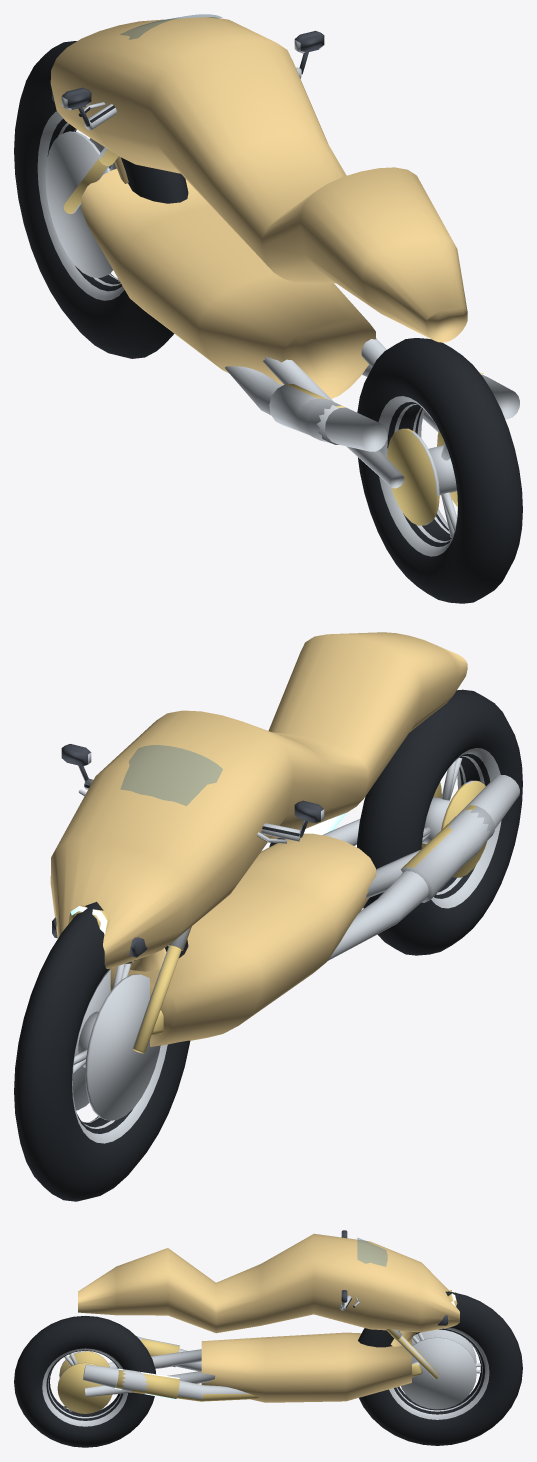
The model's file is ronin.glb.
The picture shows the model from 3 angles, top to bottom: view 1: azimuth 30°, elevation 25°; view 2: azimuth 150°, elevation 25°; view 3: azimuth 270°, elevation 25°; orthographic projection. The views are drawn at different scales.
Visible parts, largest first — view 1: chassis, rear-wheel, front-wheel, cockpit; view 2: chassis, front-wheel, rear-wheel, cockpit; view 3: chassis, front-wheel, rear-wheel, cockpit.
Boxes of the visible parts, x1=… form: chassis: x1=50, y1=17, x2=519, y2=488; rear-wheel: x1=357, y1=338, x2=522, y2=603; front-wheel: x1=14, y1=41, x2=188, y2=358; cockpit: x1=61, y1=14, x2=324, y2=130; chassis: x1=50, y1=632, x2=519, y2=1053; front-wheel: x1=14, y1=901, x2=190, y2=1201; rear-wheel: x1=357, y1=689, x2=522, y2=955; cockpit: x1=61, y1=744, x2=324, y2=843; chassis: x1=78, y1=1233, x2=459, y2=1402; front-wheel: x1=358, y1=1291, x2=522, y2=1445; rear-wheel: x1=14, y1=1316, x2=155, y2=1447; cockpit: x1=340, y1=1230, x2=387, y2=1310.
Size of the model in its own units: 0.98 by 1.41 by 3.17.
